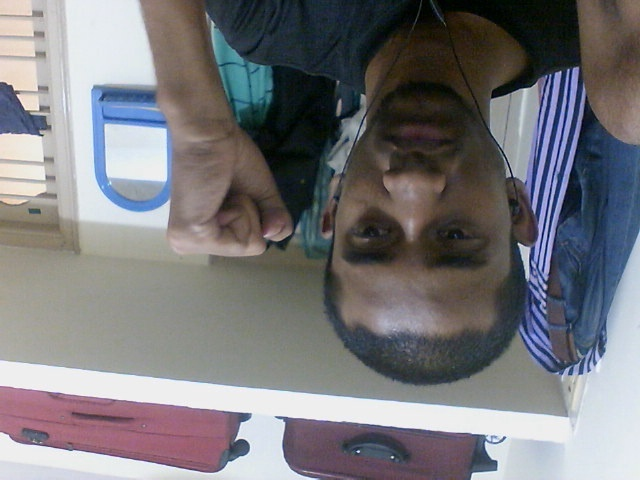hand: (160, 116, 296, 261)
